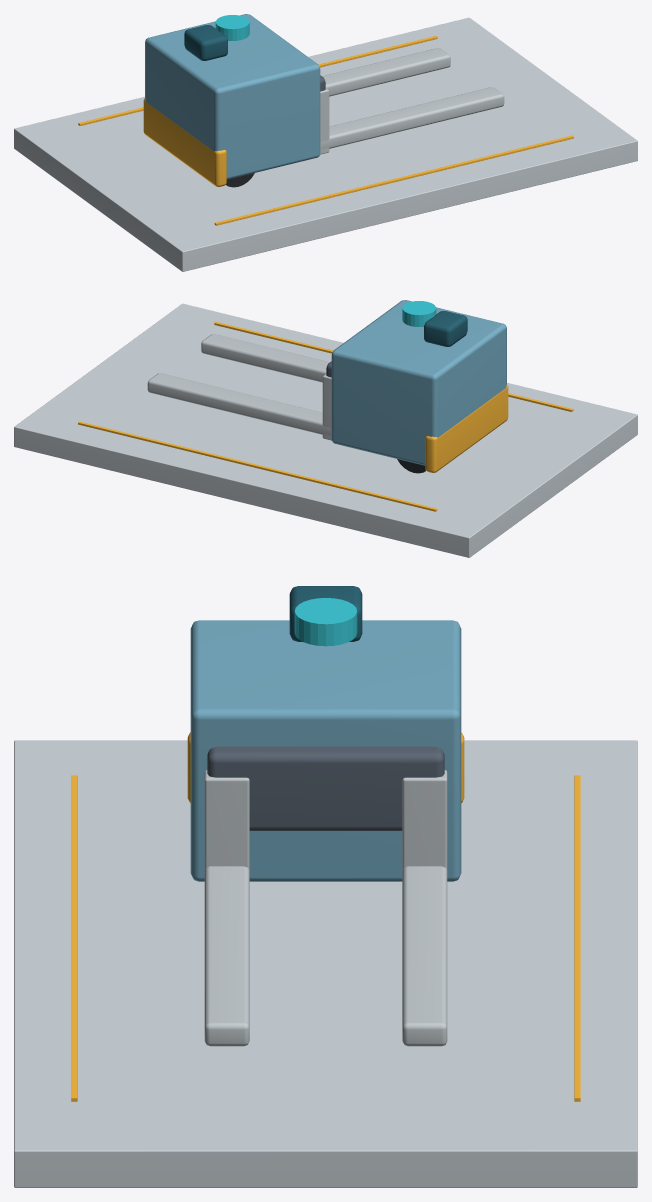
3 views of the same model, one above another, from view 1: azimuth 30°, elevation 25°; view 2: azimuth 150°, elevation 25°; view 3: azimuth 270°, elevation 25° (orthographic). The views are drawn at different scales.
Visible parts, largest first — view 1: Ground plane, Low lift power unit, Fork tine / pallet handling, Perimeter safety bumper, Fork tine / pallet handling.001, Concept clearance guide, Upper display, Concept clearance guide.001, Navigation lidar, Fork upright heel; view 2: Ground plane, Low lift power unit, Fork tine / pallet handling.001, Perimeter safety bumper, Fork tine / pallet handling, Concept clearance guide.001, Upper display, Concept clearance guide, Navigation lidar, Fork upright heel.001; view 3: Ground plane, Low lift power unit, Fork carriage, Fork tine / pallet handling, Fork tine / pallet handling.001, Fork upright heel, Fork upright heel.001, Navigation lidar, Concept clearance guide, Concept clearance guide.001, Upper display.
Boxes of the visible parts, x1=… form: Ground plane: x1=14, y1=17, x2=637, y2=271; Low lift power unit: x1=145, y1=14, x2=320, y2=179; Fork tine / pallet handling: x1=321, y1=87, x2=504, y2=149; Perimeter safety bumper: x1=143, y1=98, x2=226, y2=186; Fork tine / pallet handling.001: x1=322, y1=48, x2=450, y2=96; Concept clearance guide: x1=214, y1=135, x2=573, y2=225; Upper display: x1=184, y1=25, x2=227, y2=60; Concept clearance guide.001: x1=78, y1=36, x2=437, y2=125; Navigation lidar: x1=215, y1=15, x2=249, y2=40; Fork upright heel: x1=320, y1=88, x2=329, y2=154; Ground plane: x1=14, y1=303, x2=637, y2=557; Low lift power unit: x1=331, y1=300, x2=506, y2=465; Fork tine / pallet handling.001: x1=147, y1=373, x2=330, y2=435; Perimeter safety bumper: x1=425, y1=384, x2=508, y2=472; Fork tine / pallet handling: x1=201, y1=334, x2=329, y2=382; Concept clearance guide.001: x1=78, y1=421, x2=437, y2=511; Upper display: x1=424, y1=311, x2=467, y2=346; Concept clearance guide: x1=214, y1=322, x2=573, y2=411; Navigation lidar: x1=402, y1=301, x2=436, y2=326; Fork upright heel.001: x1=322, y1=374, x2=331, y2=440; Ground plane: x1=14, y1=740, x2=637, y2=1187; Low lift power unit: x1=190, y1=620, x2=461, y2=881; Fork carriage: x1=207, y1=746, x2=444, y2=830; Fork tine / pallet handling: x1=204, y1=866, x2=249, y2=1046; Fork tine / pallet handling.001: x1=402, y1=866, x2=447, y2=1046; Fork upright heel: x1=204, y1=770, x2=249, y2=869; Fork upright heel.001: x1=402, y1=770, x2=447, y2=869; Navigation lidar: x1=294, y1=598, x2=357, y2=646; Concept clearance guide: x1=71, y1=775, x2=77, y2=1101; Concept clearance guide.001: x1=574, y1=775, x2=580, y2=1101; Upper display: x1=289, y1=586, x2=362, y2=641.
Size of the model in its own units: 2.8 by 0.915 by 1.8.
